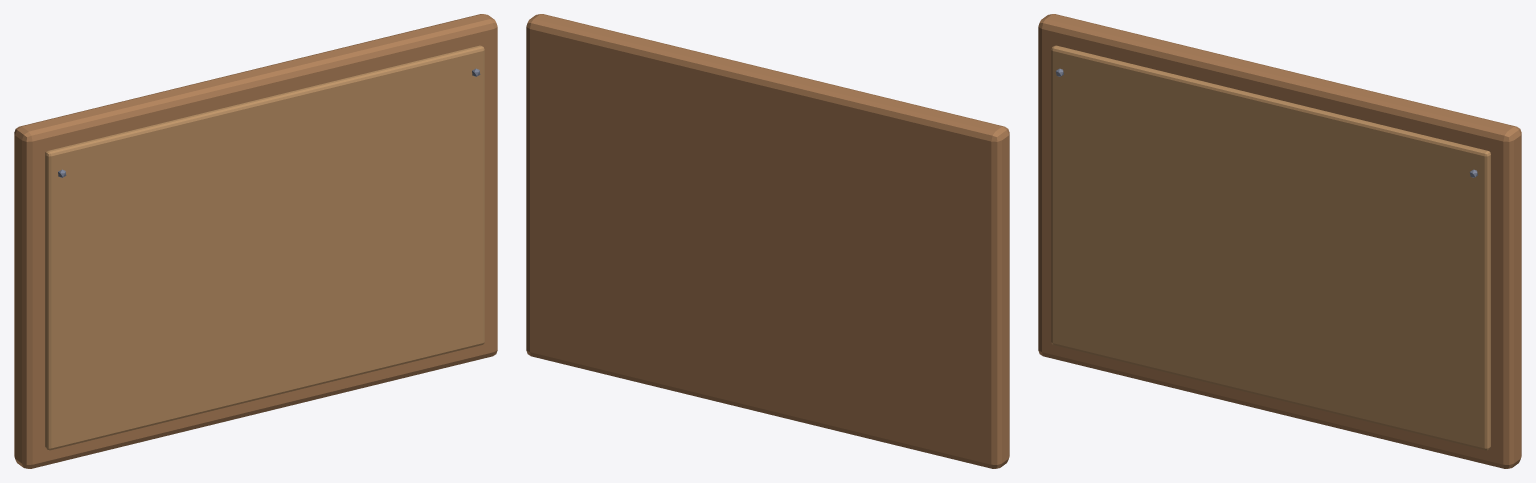
File: corkboard.glb
The picture shows the model from 3 angles, left to right: view 1: azimuth 30°, elevation 25°; view 2: azimuth 150°, elevation 25°; view 3: azimuth 330°, elevation 25°; orthographic projection.
Parts seen in each view (by area): view 1: corkboard_Mesh; view 2: corkboard_Mesh; view 3: corkboard_Mesh.
Boxes of the visible parts, bbox=[...] form: corkboard_Mesh: bbox=[14, 14, 497, 468]; corkboard_Mesh: bbox=[526, 14, 1009, 468]; corkboard_Mesh: bbox=[1038, 14, 1521, 468].
Bounding box in the file's own units: 1.4 × 0.95 × 0.1147.
